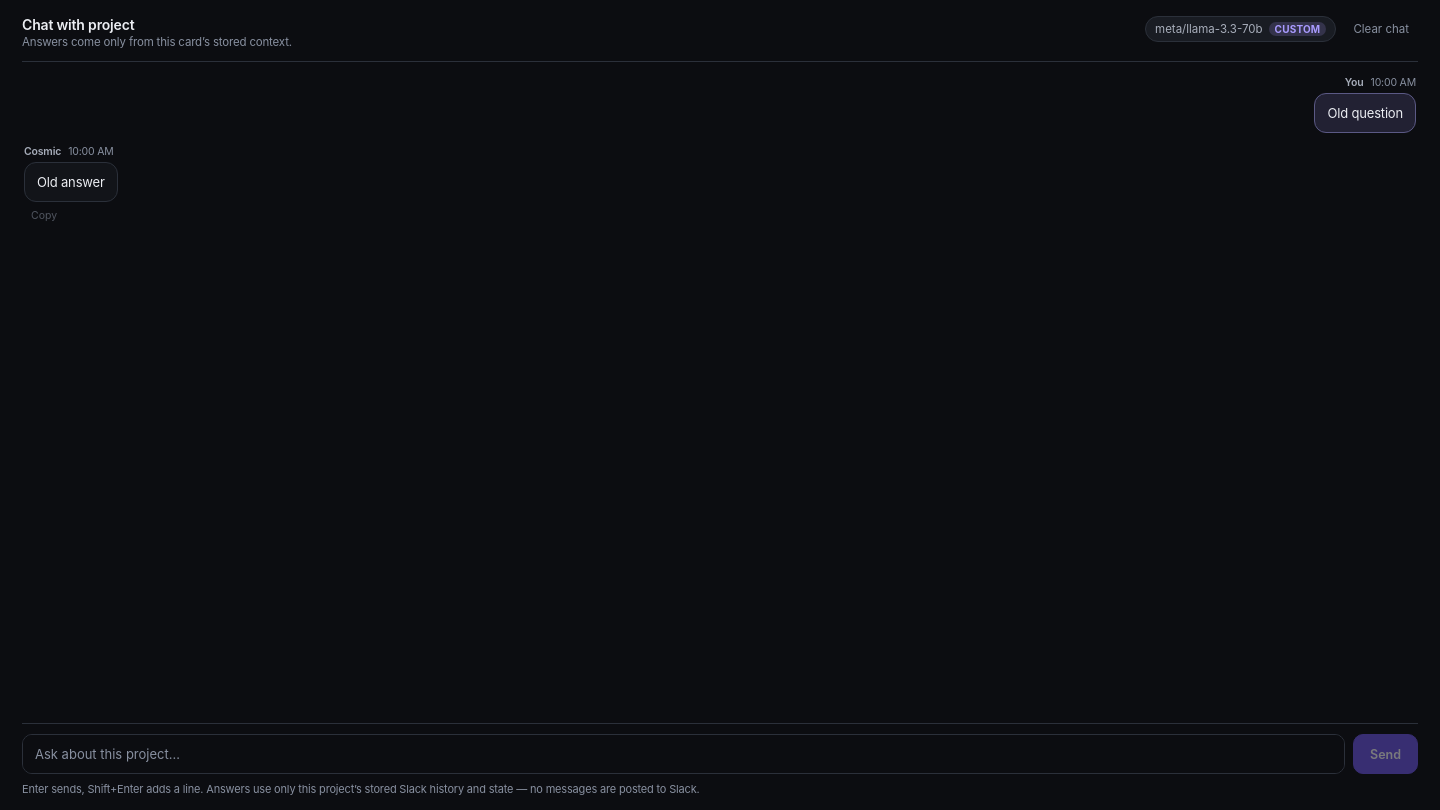
Scenario: AgentChatPanel › clears the conversation after confirmation
The image size is (1440, 810).
Expected: the text "Old question" is shown, [1314,93,1416,133]
Click the button "Clear chat" at (1381, 29), box [1344,16,1418,42]
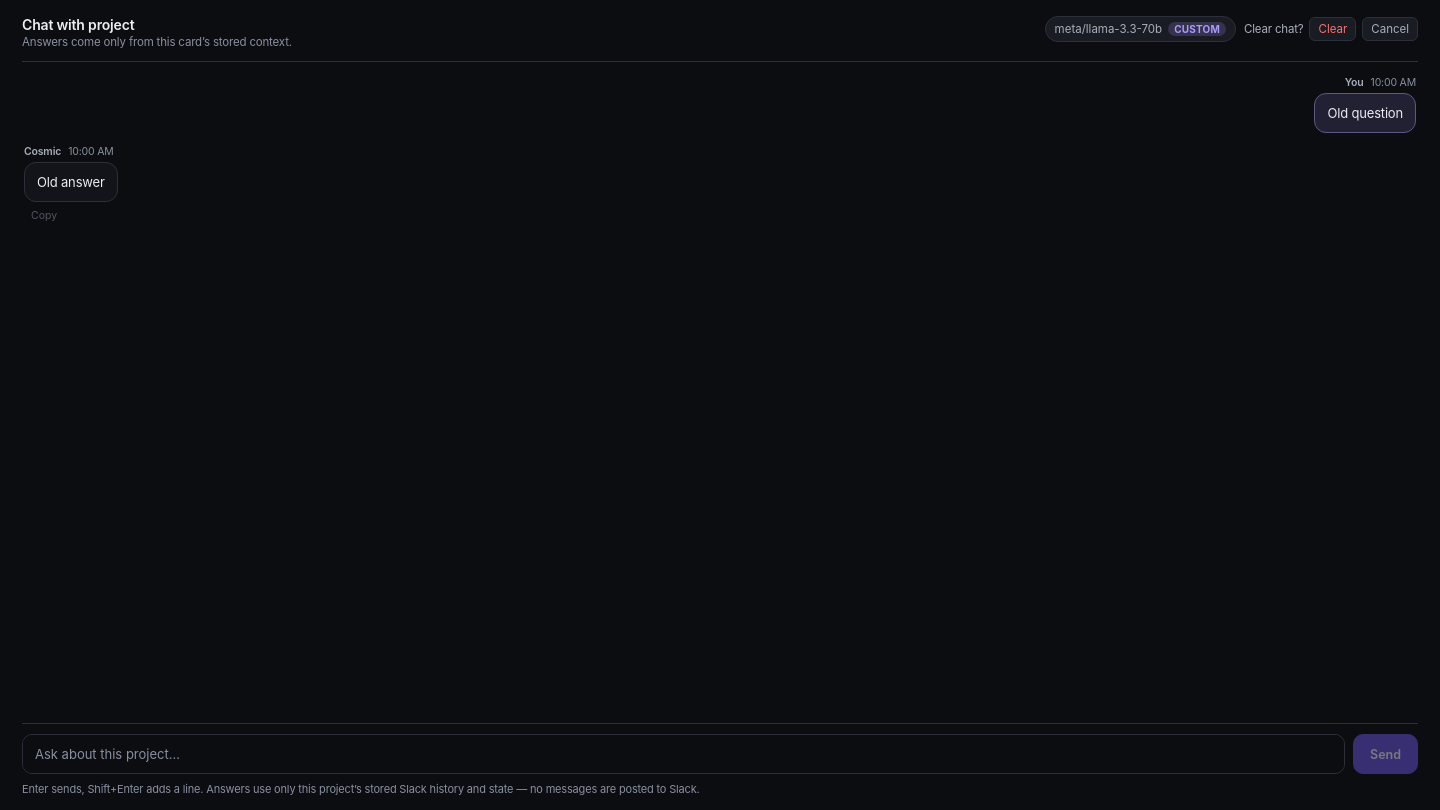
Expected: the message shows "Clear chat?", [1244,22,1304,36]
Click the button "Clear" at (1333, 29), box [1310,17,1356,41]
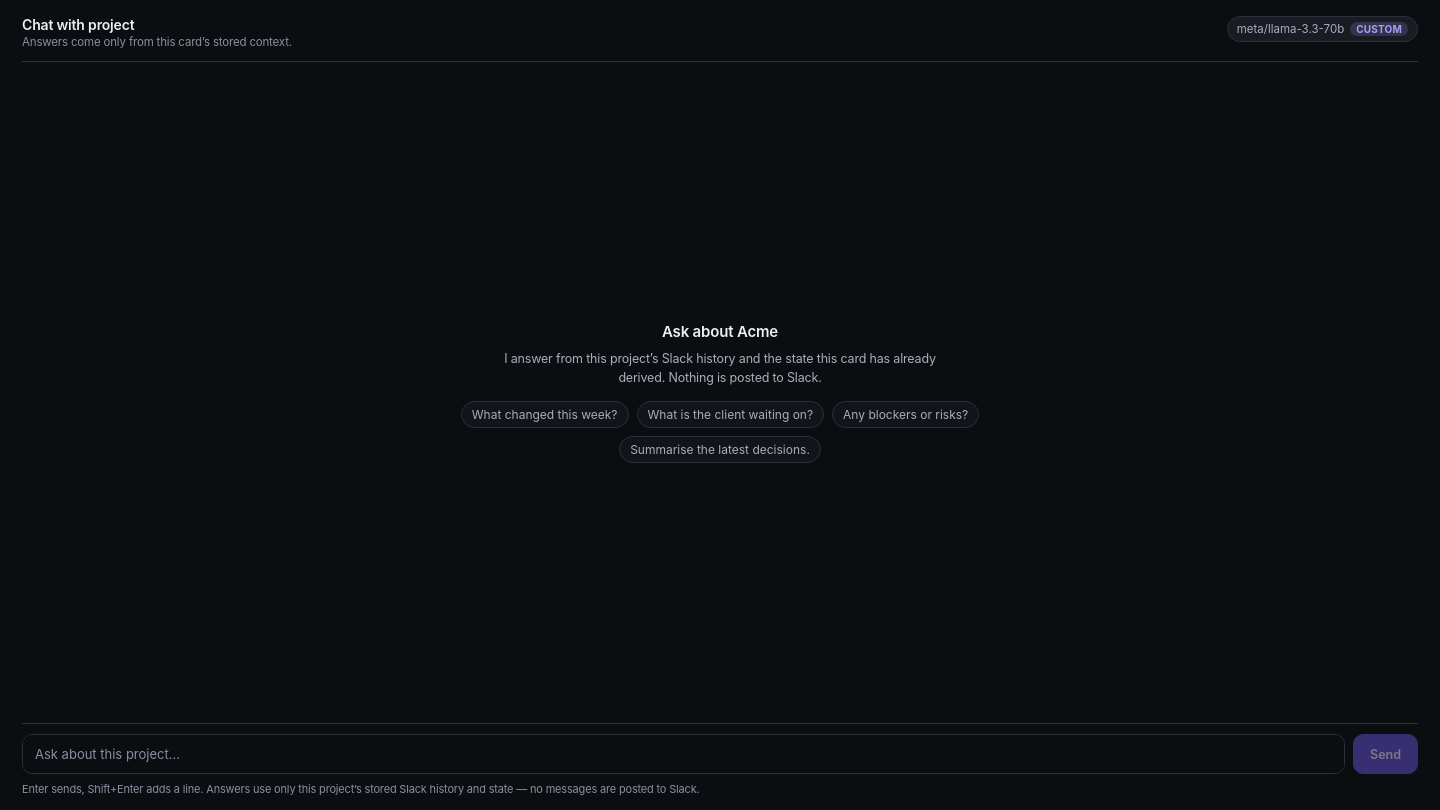
Expected: the text "Old question" is gone
